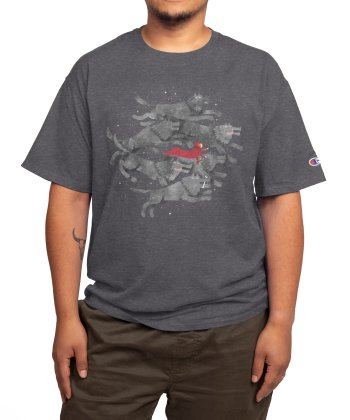design: (103, 86, 246, 222)
